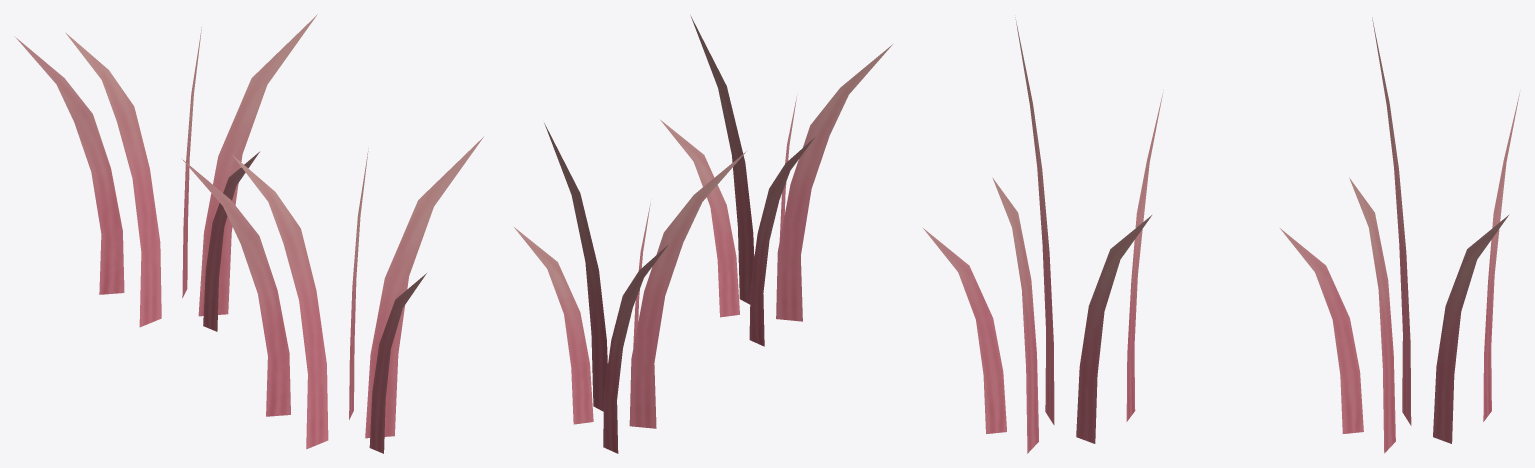
File: Pinkgrass_2.FBX
3 renders of one model, left to right at view 1: azimuth 30°, elevation 25°; view 2: azimuth 150°, elevation 25°; view 3: azimuth 270°, elevation 25°, orthographic. The views are drawn at different scales.
Parts seen in each view (by area): view 1: Line009; view 2: Line009; view 3: Line009.
Part boxes in pixels (box(x1,y1,x2,y2)): Line009: box(14, 14, 483, 453); Line009: box(514, 15, 892, 453); Line009: box(922, 17, 1519, 453).
Bounding box in the file's own units: 1.88 × 2.43 × 3.75.
